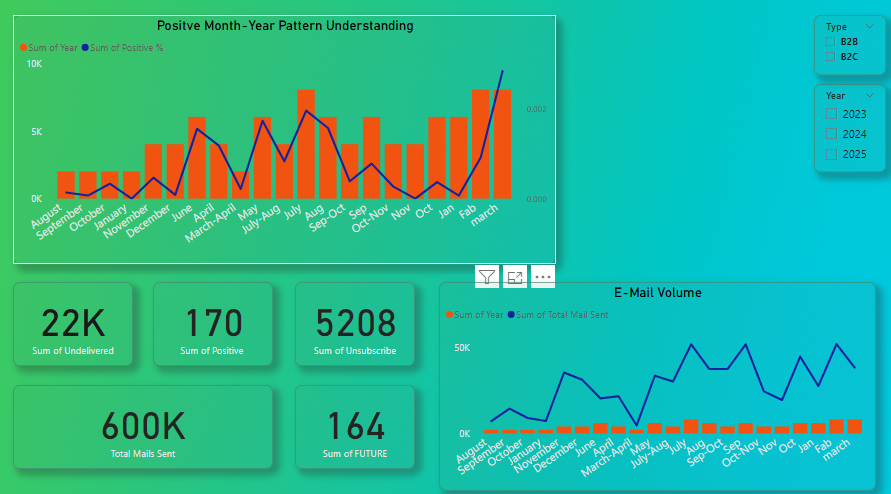

This screenshot's page, from the dashboard's own definition file:
{"tool":"powerbi","page":{"name":"E-Mail & Positive Volume","canvas":[1280,720],"ordinal":1},"visuals":[{"type":"lineStackedColumnComboChart","title":"Positve Month-Year Pattern Understanding","fields":{"Y2":["Sum(DATA.Positive %)"],"Y":["Sum(DATA.Year)"],"Category":["DATA.Month-Campaign"]},"box":[21.3,24.1,775.3,355.7],"z":0},{"type":"card","fields":{"Values":["Sum(DATA.Undelivered)"]},"box":[21.3,405.4,171.5,120.5],"z":1000},{"type":"card","fields":{"Values":["Sum(DATA.Total Mail Sent)"]},"box":[21.3,552.8,371.3,120.5],"z":2000},{"type":"card","fields":{"Values":["Sum(DATA.Positive )"]},"box":[221.1,405.4,171.5,120.5],"z":3000},{"type":"card","fields":{"Values":["Sum(DATA.Unsubscribe)"]},"box":[423.8,405.4,171.5,120.5],"z":4000},{"type":"card","fields":{"Values":["Sum(DATA.FUTURE)"]},"box":[423.8,552.8,171.5,120.5],"z":5000},{"type":"lineStackedColumnComboChart","title":"E-Mail Volume","fields":{"Category":["DATA.Month-Campaign"],"Y":["Sum(DATA.Year)"],"Y2":["Sum(DATA.Total Mail Sent)"]},"box":[630.7,405.4,623.6,297.6],"z":6000},{"type":"slicer","fields":{"Values":["DATA.Year"]},"box":[1165,123.3,103.5,126.1],"z":7000},{"type":"slicer","fields":{"Values":["DATA.Type"]},"box":[1165,24.1,103.5,86.5],"z":8000}]}

Visuals, with their boxes in screenshot pixels (x1, y1, x2, y2), scaled from the page's 1280x720 canvas onto the 891x494 screenshot:
"Positve Month-Year Pattern Understanding" lineStackedColumnComboChart: x1=15, y1=17, x2=555, y2=261
card - Sum(DATA.Undelivered): x1=15, y1=278, x2=134, y2=361
card - Sum(DATA.Total Mail Sent): x1=15, y1=379, x2=273, y2=462
card - Sum(DATA.Positive ): x1=154, y1=278, x2=273, y2=361
card - Sum(DATA.Unsubscribe): x1=295, y1=278, x2=414, y2=361
card - Sum(DATA.FUTURE): x1=295, y1=379, x2=414, y2=462
"E-Mail Volume" lineStackedColumnComboChart: x1=439, y1=278, x2=873, y2=482
slicer - DATA.Year: x1=811, y1=85, x2=883, y2=171
slicer - DATA.Type: x1=811, y1=17, x2=883, y2=76
